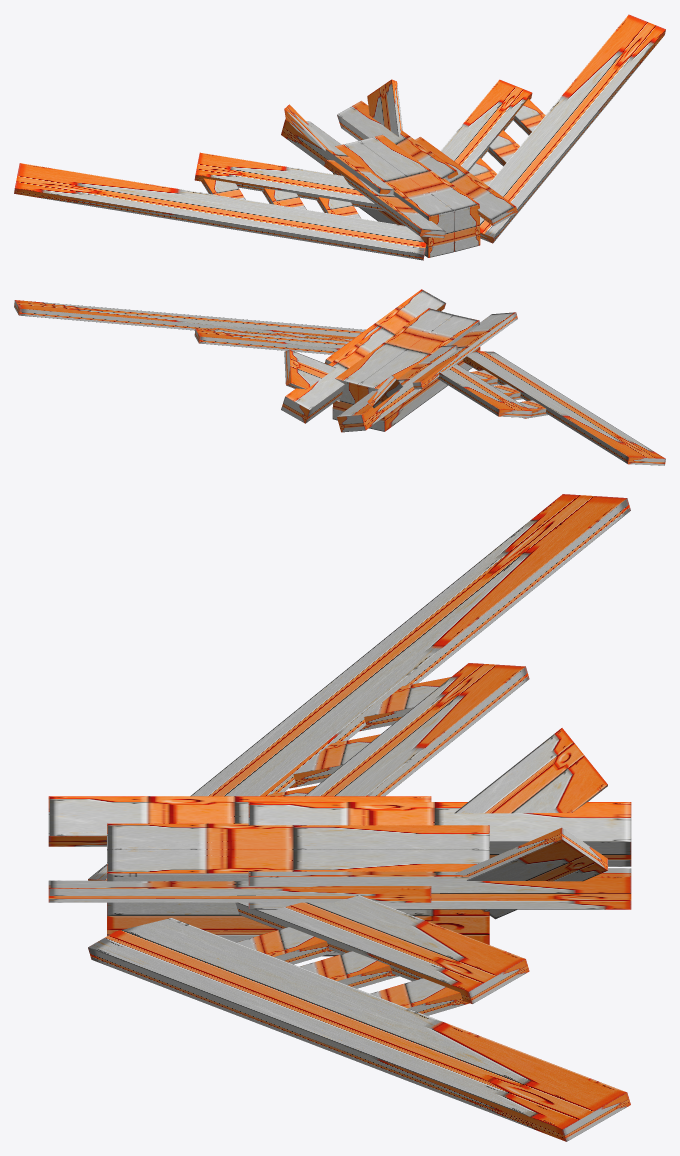
Rendered from E_shipclassT.fbx.
3 renders of one model, top to bottom at view 1: azimuth 30°, elevation 25°; view 2: azimuth 150°, elevation 25°; view 3: azimuth 270°, elevation 25°, orthographic. The views are drawn at different scales.
Visible parts, largest first — view 1: EnemyshipT; view 2: EnemyshipT; view 3: EnemyshipT.
Part boxes in pixels (x1,y1,x2,y2): EnemyshipT: [14, 14, 665, 260]; EnemyshipT: [14, 289, 665, 465]; EnemyshipT: [48, 494, 631, 1141].
Bounding box in the file's own units: 2355 × 267 × 912.
Materials: 1 (1 with a texture image).
